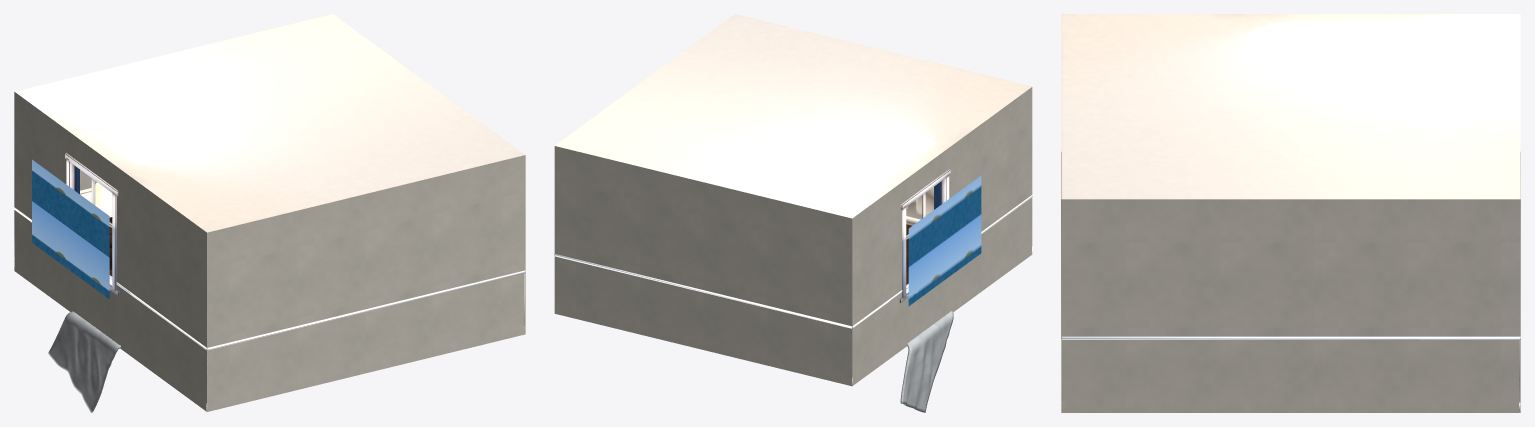
The model's file is villa_bedroom.glb.
The picture shows the model from 3 angles, left to right: view 1: azimuth 30°, elevation 25°; view 2: azimuth 150°, elevation 25°; view 3: azimuth 270°, elevation 25°; orthographic projection. The views are drawn at different scales.
Parts seen in each view (by area): view 1: ceiling, wall_front, wall_left_a, wall_left_b, window_sky, duvet, wall_left_c, wall_left_d, chairrail_front, win_l; view 2: ceiling, wall_back, wall_left_a, wall_left_b, window_sky, duvet, wall_left_c, wall_left_d, chairrail_back, win_r; view 3: wall_right, ceiling, chairrail_right.
Boxes of the visible parts, bbox=[...] form: ceiling: bbox=[15, 14, 524, 232]; wall_front: bbox=[207, 155, 525, 411]; wall_left_a: bbox=[115, 166, 206, 411]; wall_left_b: bbox=[14, 92, 69, 310]; window_sky: bbox=[32, 159, 109, 299]; duvet: bbox=[48, 311, 120, 412]; wall_left_c: bbox=[69, 270, 115, 341]; wall_left_d: bbox=[69, 132, 115, 187]; chairrail_front: bbox=[207, 270, 525, 350]; win_l: bbox=[112, 193, 116, 290]; ceiling: bbox=[555, 14, 1031, 218]; wall_back: bbox=[554, 146, 852, 386]; wall_left_a: bbox=[946, 87, 1032, 313]; wall_left_b: bbox=[852, 181, 903, 385]; window_sky: bbox=[908, 176, 981, 305]; duvet: bbox=[900, 310, 953, 412]; wall_left_c: bbox=[903, 279, 946, 348]; wall_left_d: bbox=[903, 150, 946, 201]; chairrail_back: bbox=[554, 254, 851, 328]; win_r: bbox=[902, 207, 906, 298]; wall_right: bbox=[1061, 199, 1520, 412]; ceiling: bbox=[1061, 14, 1520, 199]; chairrail_right: bbox=[1061, 336, 1520, 339].
Bounding box in the file's own units: 5.55 × 4.13 × 5.46.
Materials: 23 (11 with a texture image).
